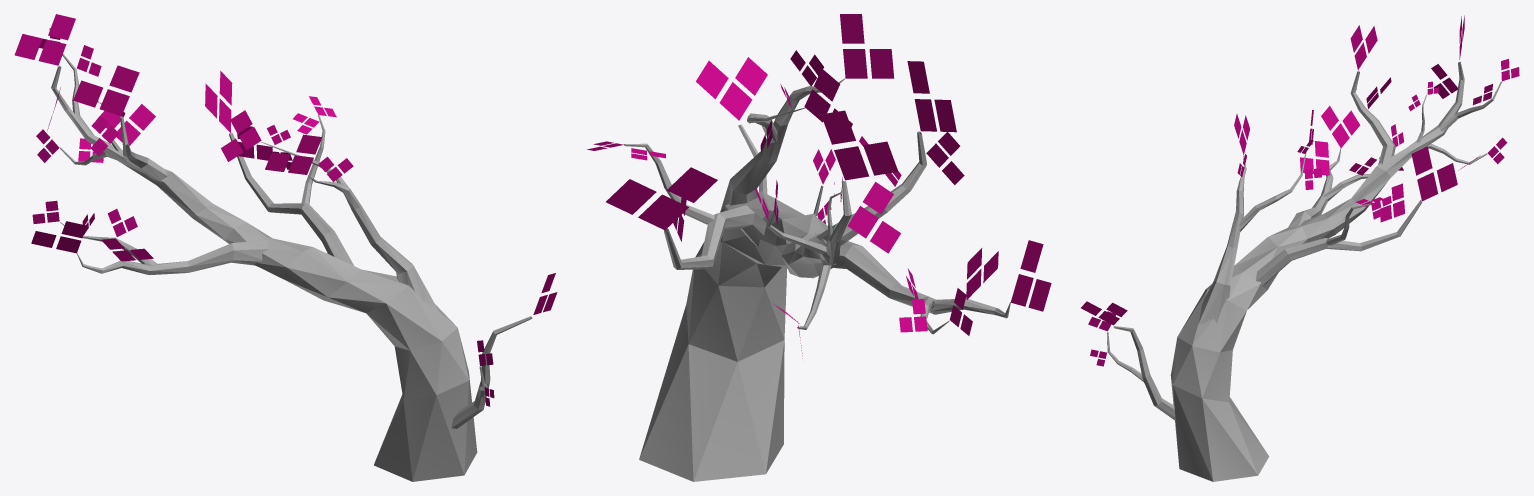
File: Deeptree02_LOD-01.fbx
3 views of the same model, side by side, from view 1: azimuth 30°, elevation 25°; view 2: azimuth 150°, elevation 25°; view 3: azimuth 270°, elevation 25° (orthographic). The views are drawn at different scales.
Visible parts, largest first — view 1: Deeptree02_LOD_01; view 2: Deeptree02_LOD_01; view 3: Deeptree02_LOD_01.
Part boxes in pixels (left/top/right/bottom): Deeptree02_LOD_01: left=14, top=14, right=557, bottom=481; Deeptree02_LOD_01: left=587, top=14, right=1051, bottom=481; Deeptree02_LOD_01: left=1081, top=15, right=1519, bottom=481.
Size of the model in its own units: 137 by 137 by 156.
